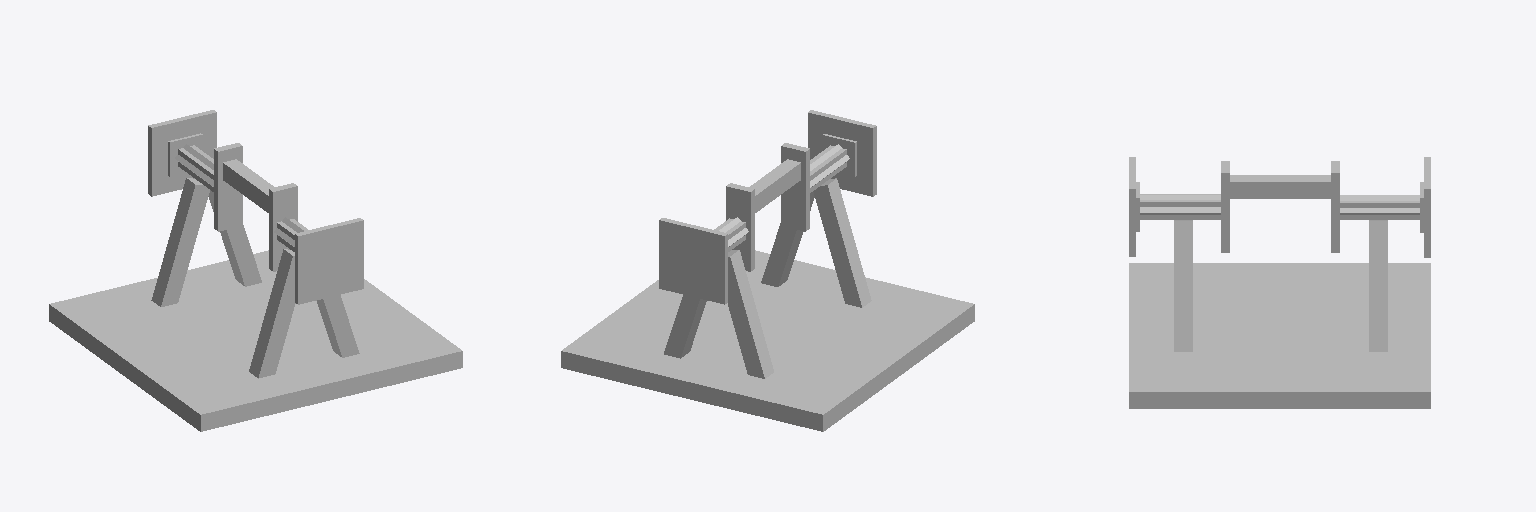
File: small_crankshaft.obj
3 renders of one model, left to right at view 1: azimuth 30°, elevation 25°; view 2: azimuth 150°, elevation 25°; view 3: azimuth 270°, elevation 25°, orthographic.
Parts seen in each view (by area): view 1: base, axle.001; view 2: base, axle.001; view 3: base, axle.001.
Boxes of the visible parts, x1,y1,x2,y2 form: base: [49, 178, 462, 431]; axle.001: [148, 110, 363, 304]; base: [561, 178, 974, 431]; axle.001: [659, 110, 876, 304]; base: [1129, 220, 1430, 408]; axle.001: [1129, 157, 1430, 257].
Size of the model in its own units: 1 by 0.6456 by 1.